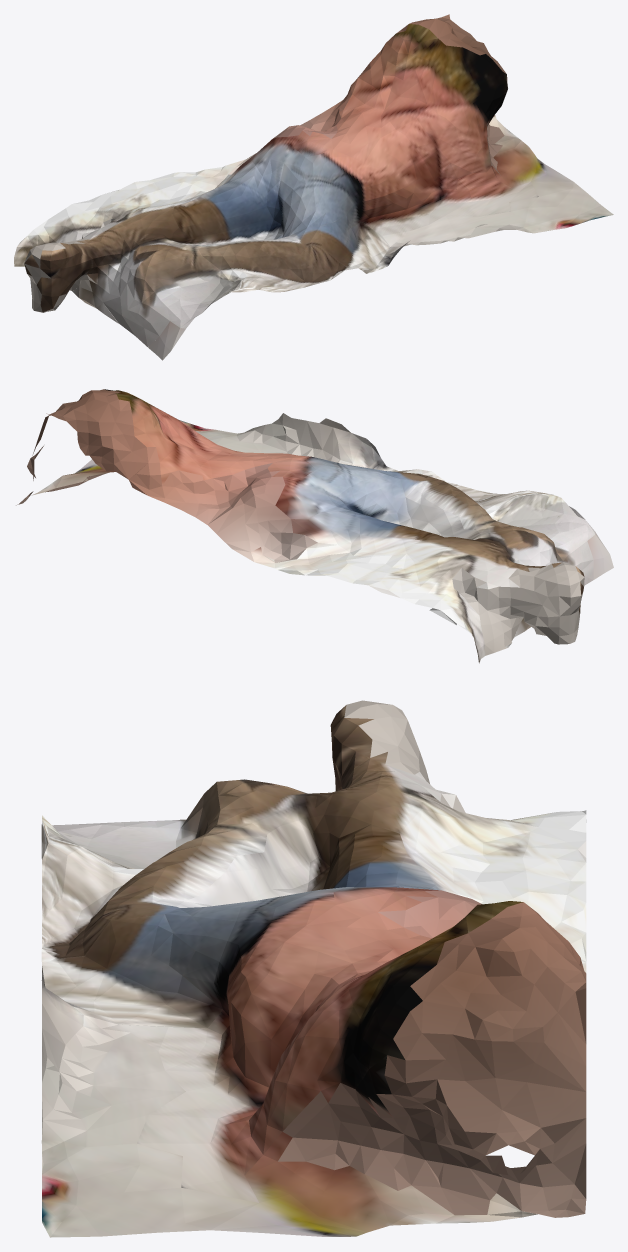
3 renders of one model, top to bottom at view 1: azimuth 30°, elevation 25°; view 2: azimuth 150°, elevation 25°; view 3: azimuth 270°, elevation 25°, orthographic. The views are drawn at different scales.
Bounding box in the file's own units: 1.68 × 0.5165 × 0.7873.
Materials: 1 (1 with a texture image).
